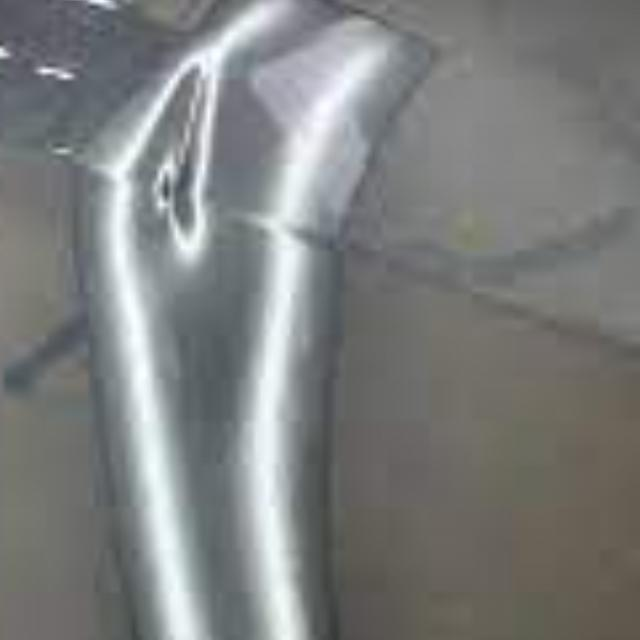dents: (142, 51, 212, 235)
